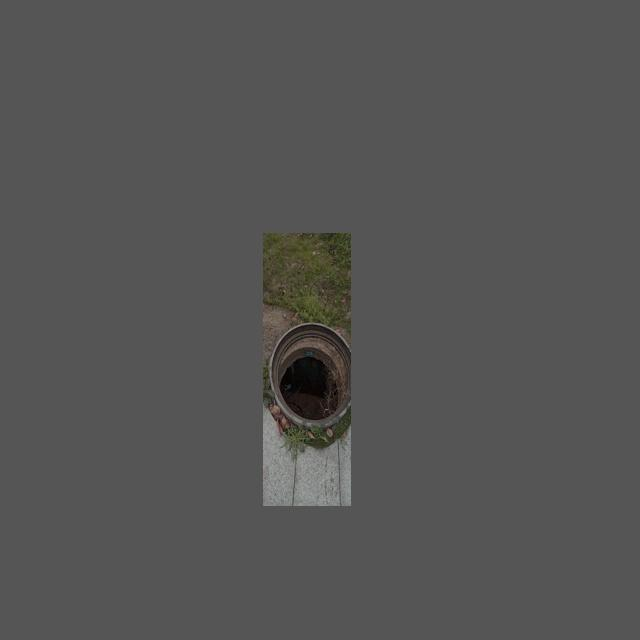lose: (269, 322, 351, 429)
